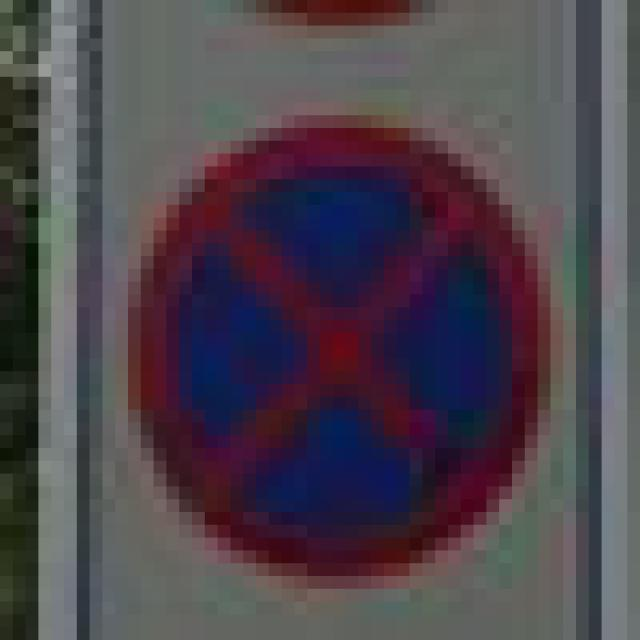no_parking: (115, 115, 538, 576)
